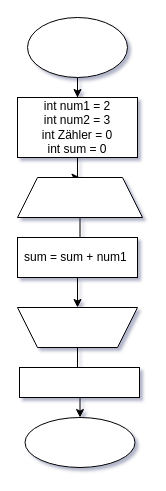
Image size: 166x491. Some labels were removed from this diagram. Each missing label, with the centre of its shape:
if Zähler <= num2: the point at 79,197
print sum: the point at 79,382
